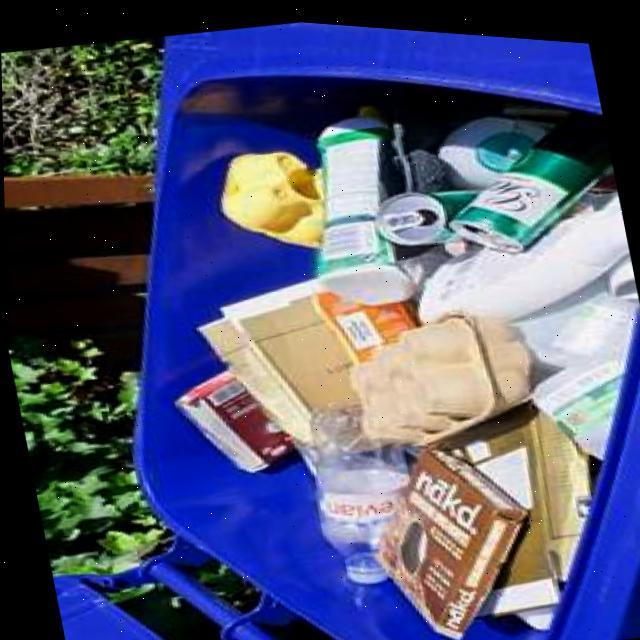Garbage: (174, 103, 636, 630)
